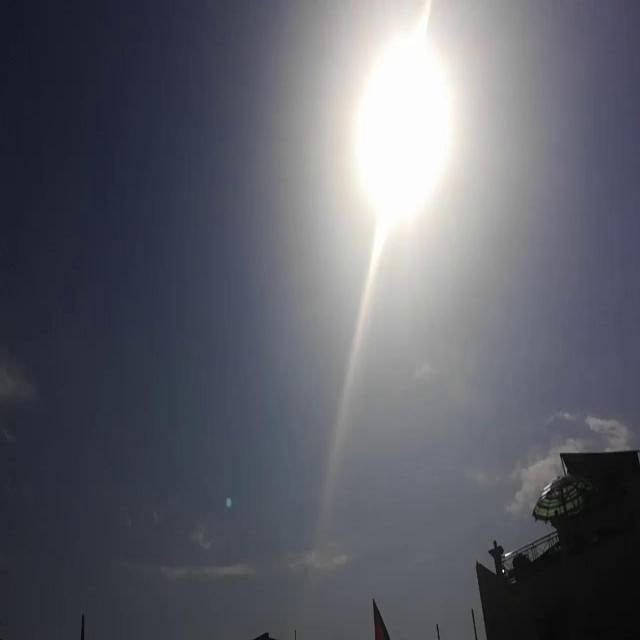other: (328, 15, 483, 270)
